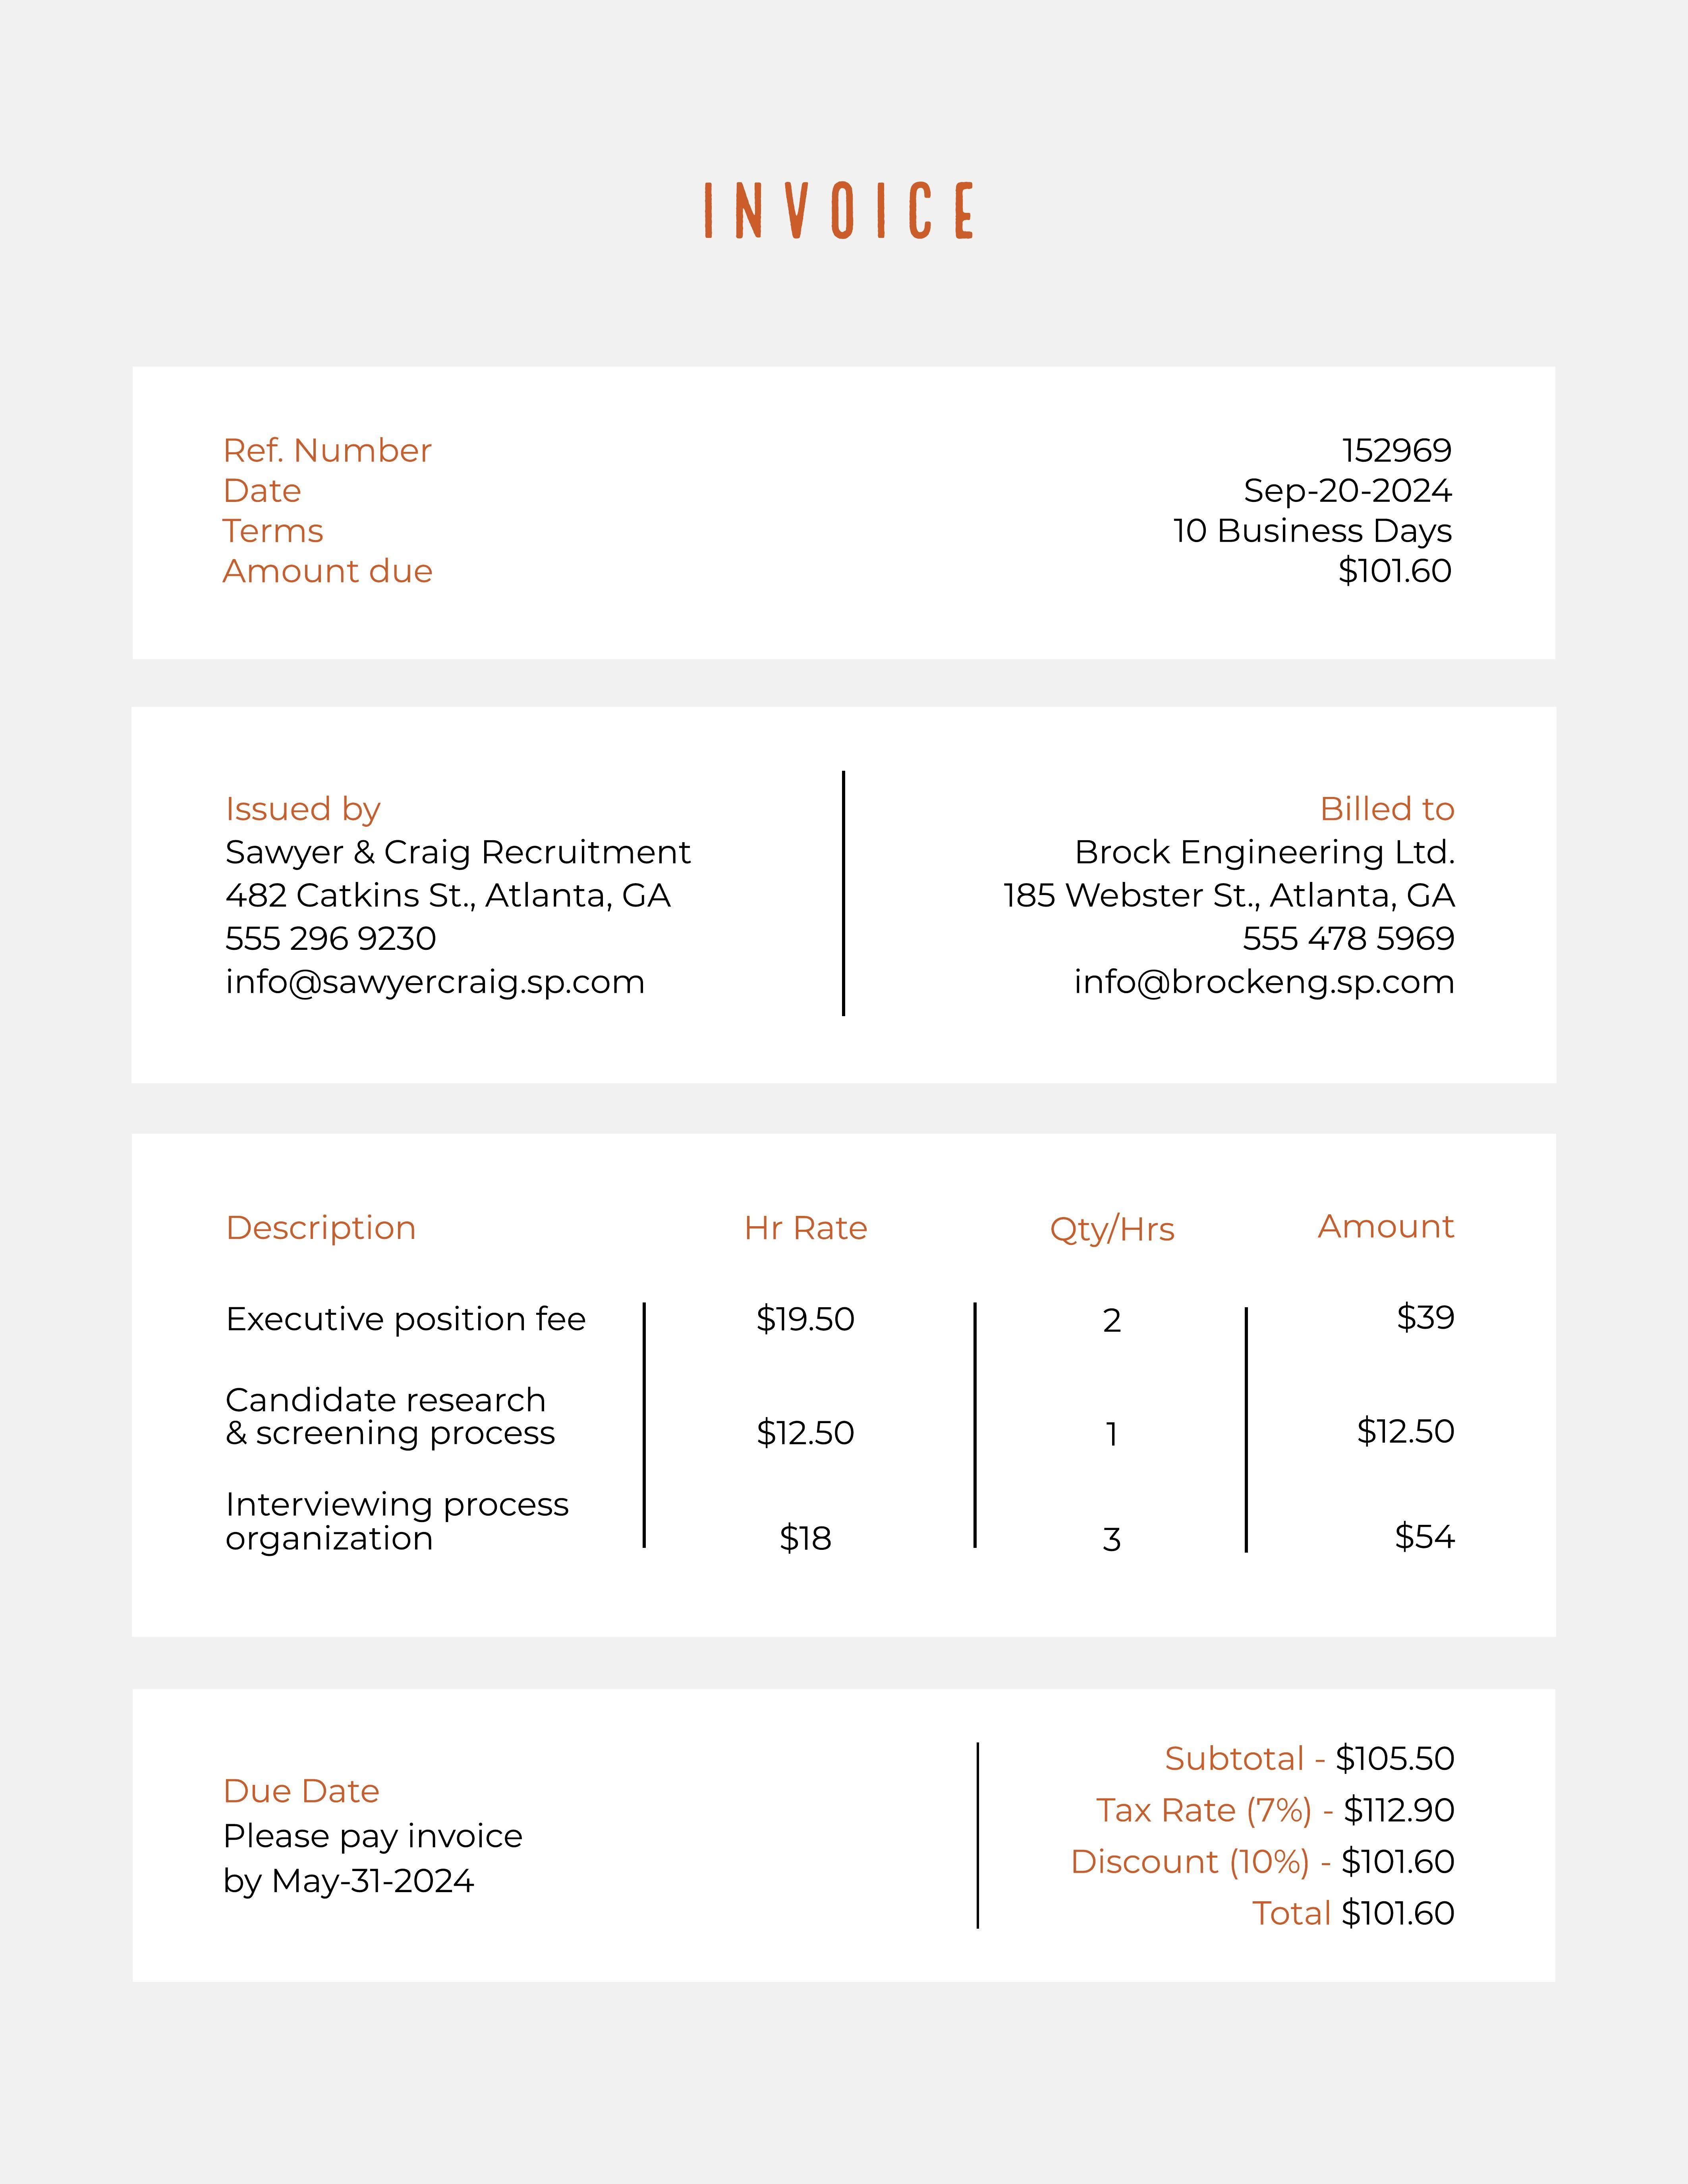ROI: (214, 1200, 1475, 1568), (201, 418, 1469, 604), (985, 766, 1503, 1015), (217, 789, 761, 1022), (1037, 1728, 1490, 1938), (204, 1752, 563, 1907)
